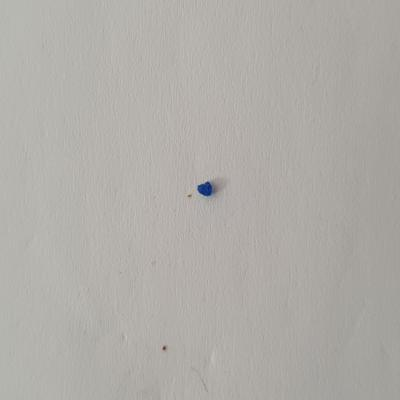plastic: (185, 171, 223, 201)
